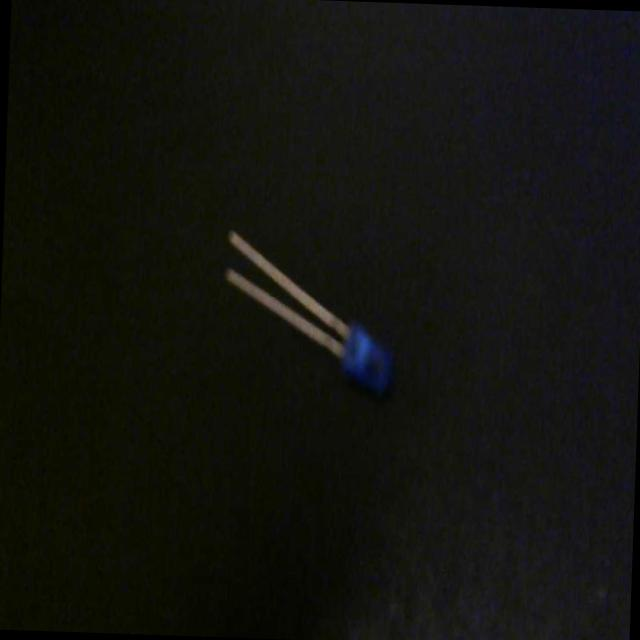blue_led: (218, 226, 397, 398)
